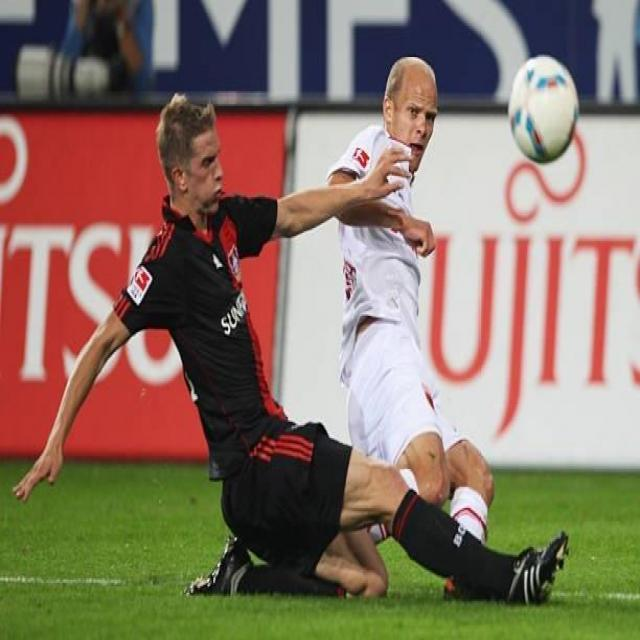ball: (500, 44, 589, 168)
player: (31, 101, 566, 622), (330, 50, 495, 601)
